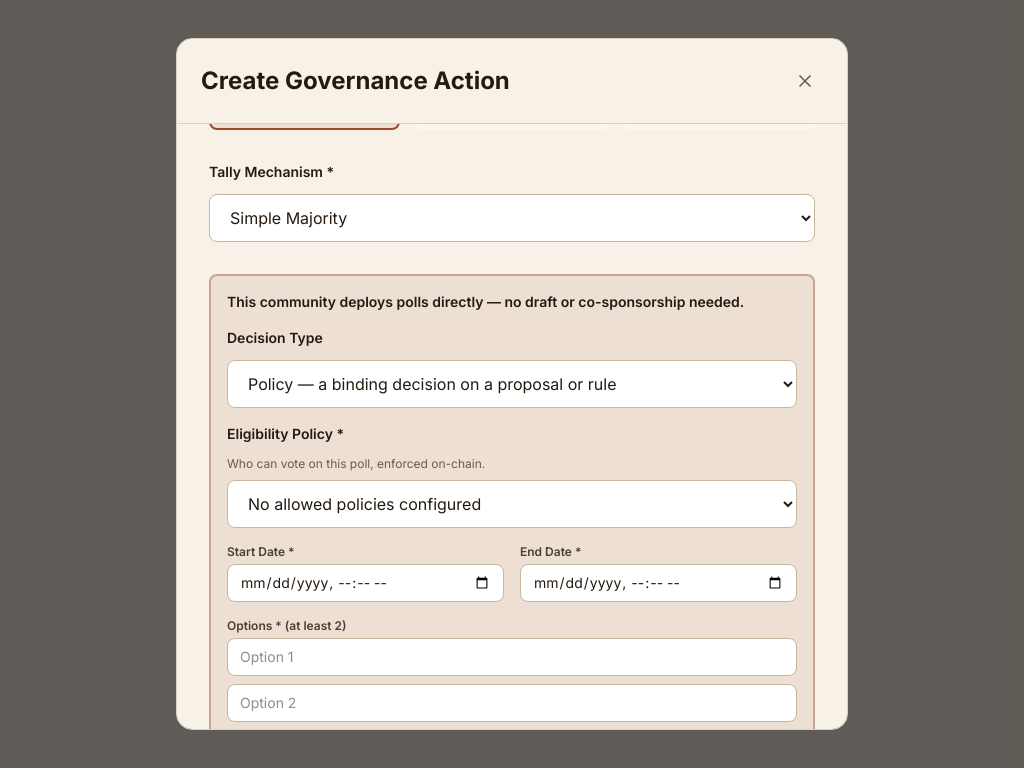
Test: CreateProposalModal › direct deployment mode (specs/007 US2) › person-type (election) options › shows a member picker per candidate once Person is selected
(page scrolled)
Select "Person — an election, electing someone to a role" in the dropdown labelled "Decision Type" at (512, 384), box left=227, top=360, right=797, bottom=408
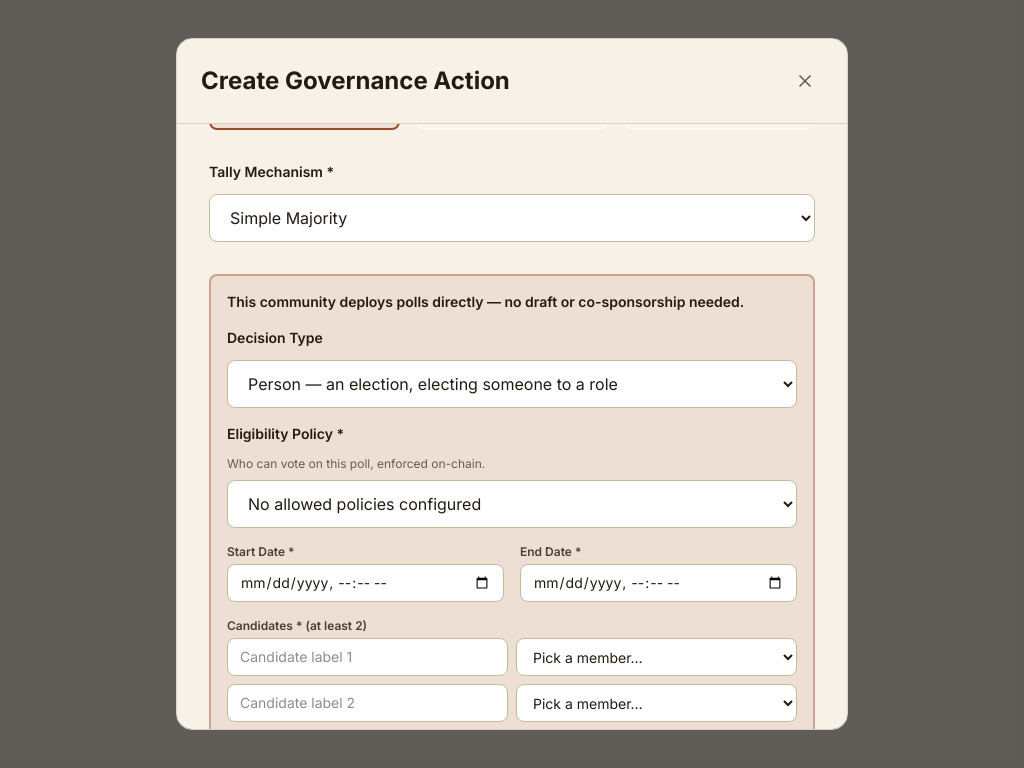
Result: the number of dropdowns showing "Pick a member…" is 2 at left=516, top=638, right=797, bottom=676; left=516, top=684, right=797, bottom=722
Result: the text "Candidates * (at least 2)" is shown at left=227, top=618, right=367, bottom=633
